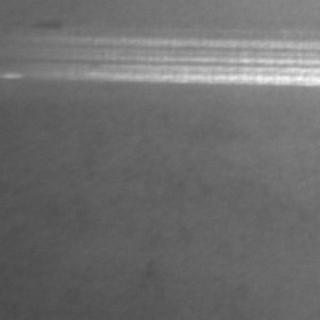scratches: (32, 39, 316, 85)
